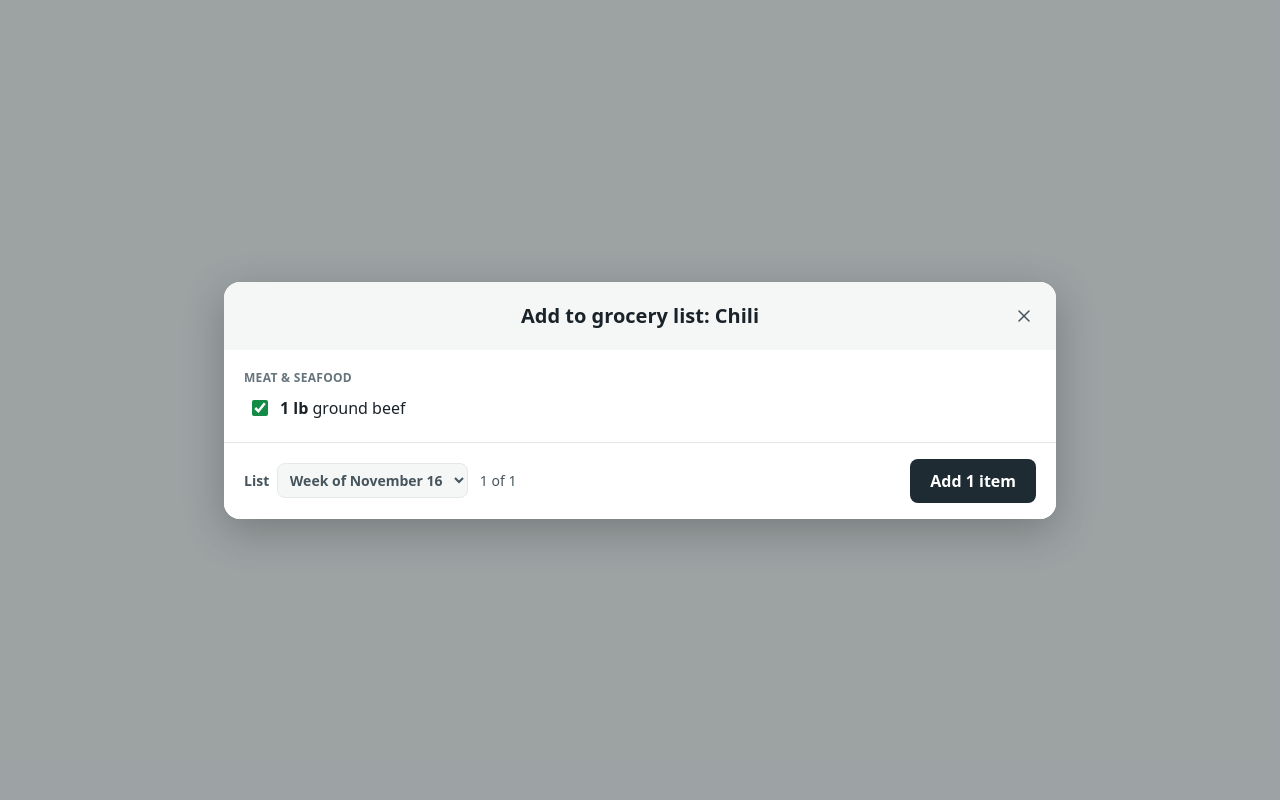
Test case: Add to grocery list: which list › with lists: pick one (this week's to start) or start a new one
Select "New list…" in the dropdown labelled "List" at point(372, 480), box [277,463,468,498]
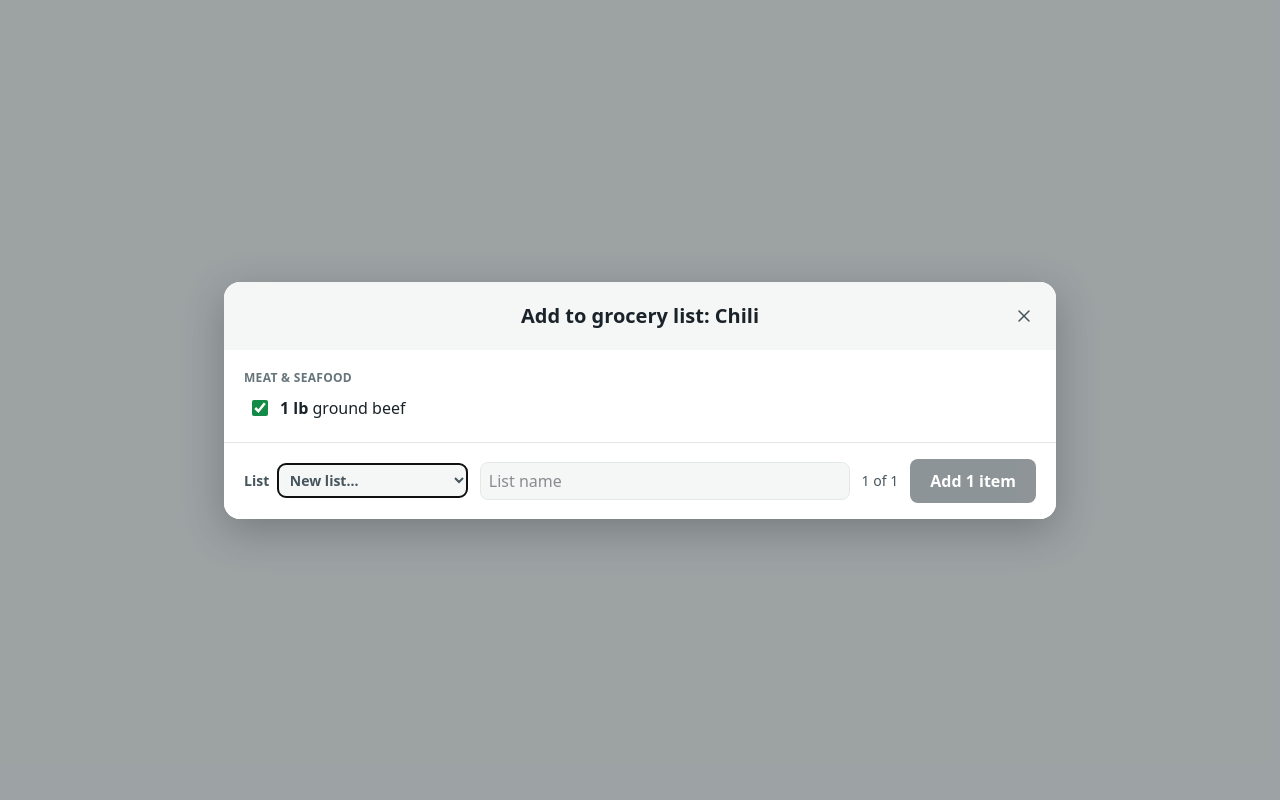
Expected: the field named "New list name" is empty
Type "Costco" into the field named "New list name" at point(665, 480), box [480,462,850,500]
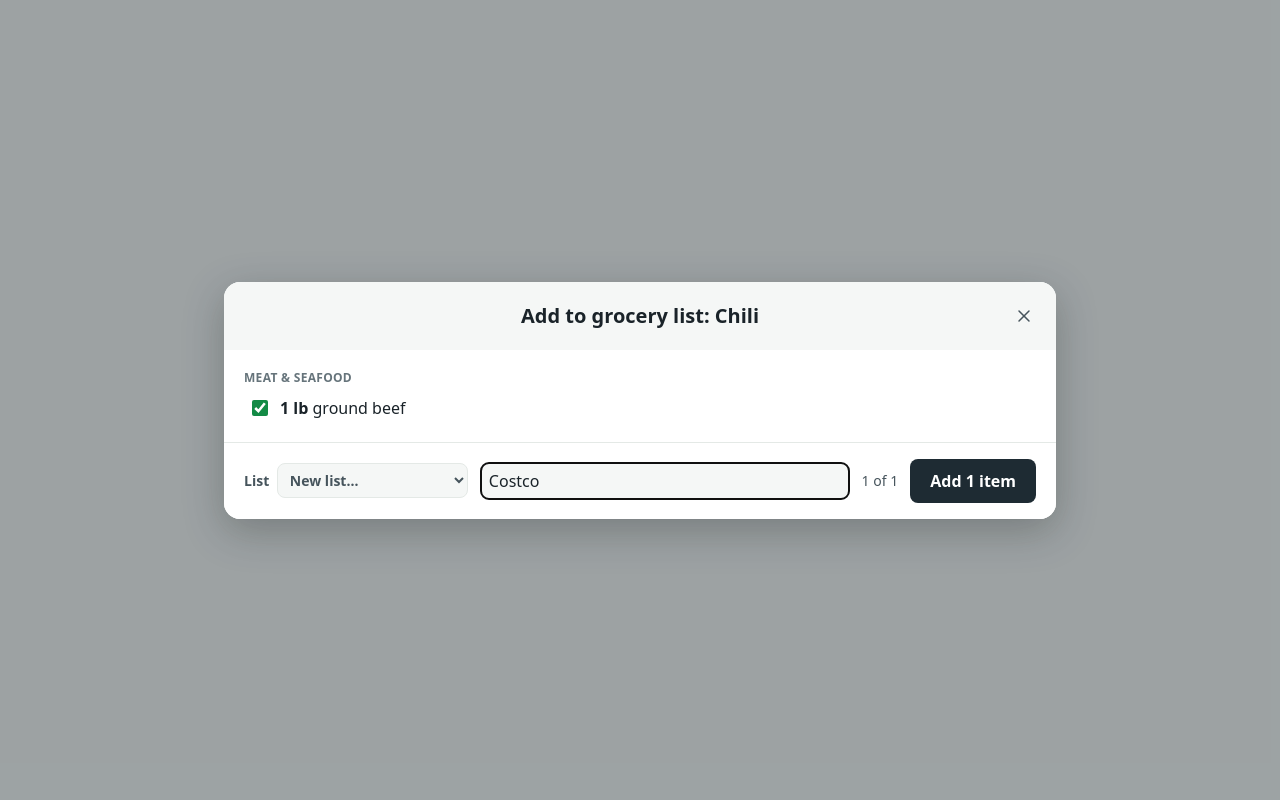
Click the button "Add 1 item" at point(973, 480), box [910,458,1036,502]
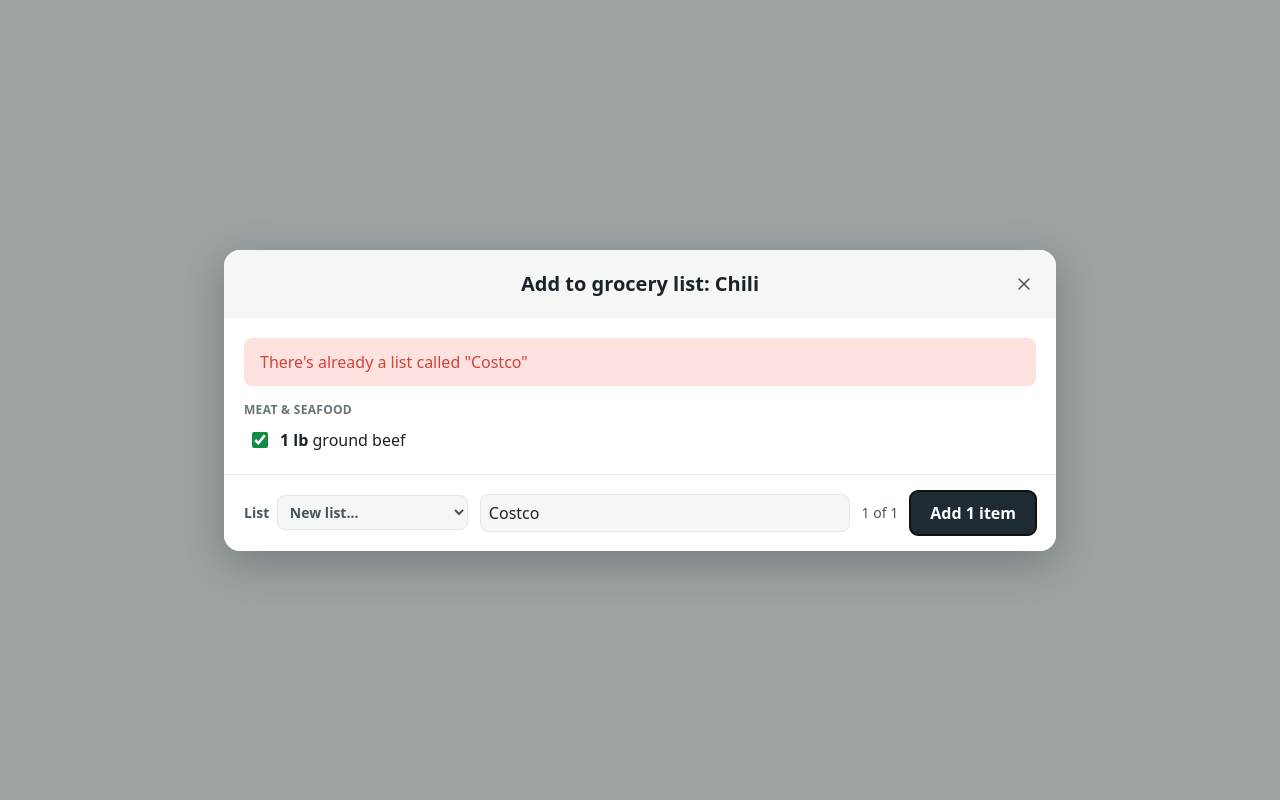
Expected: the message reads "There's already a list called \"Costco\"", [260,350,528,372]
